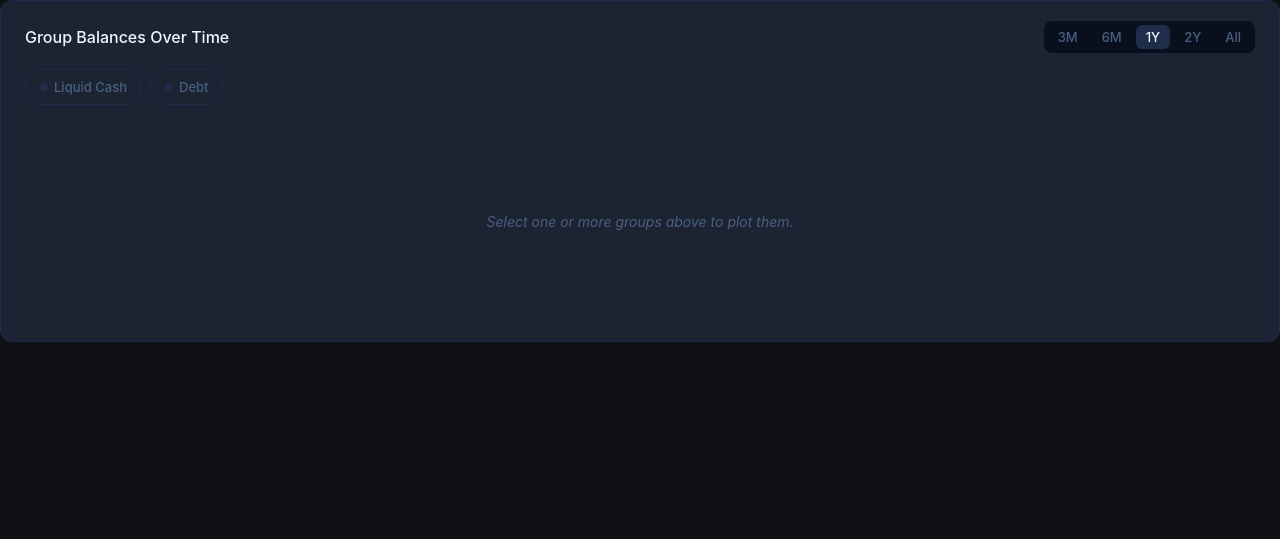
Scenario: GroupsTimeChart › hides the "select groups" hint after a chip is clicked
Click the button "Liquid Cash" at [84, 87], box [25, 69, 142, 105]
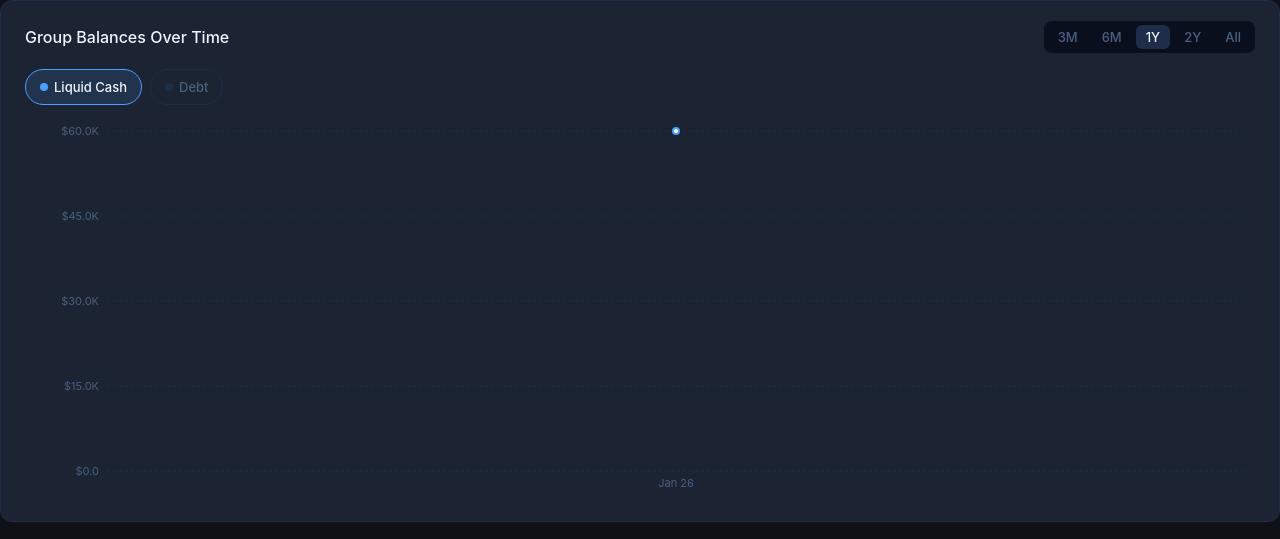
Expected: the text "Select one or more groups above" is gone
